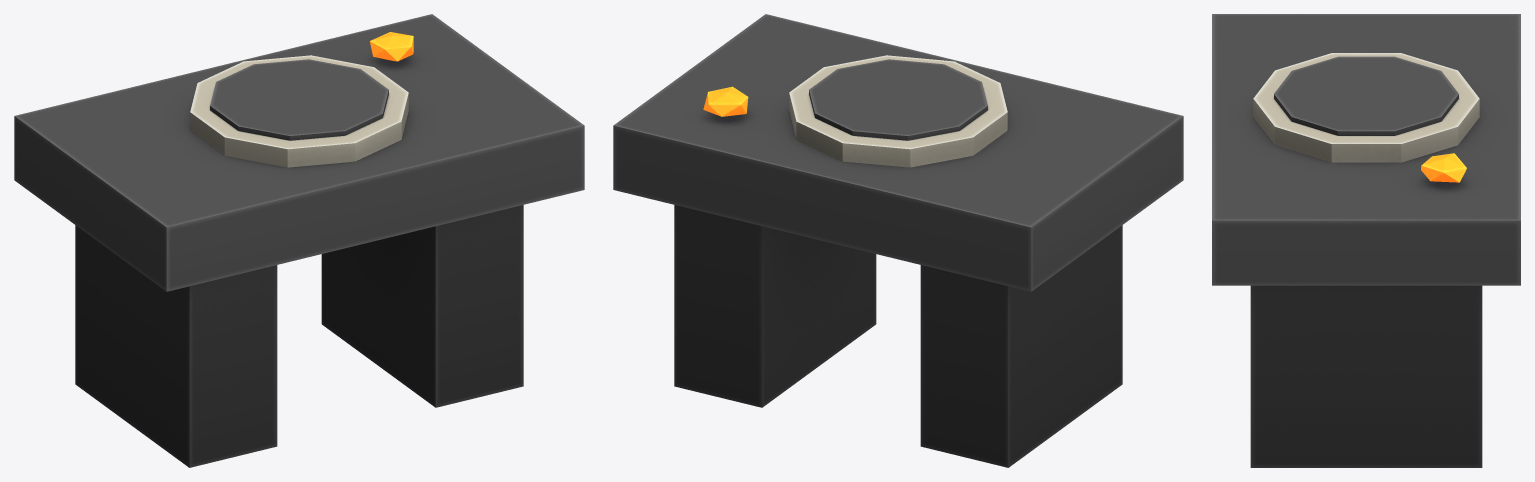
File: rock_altar.glb
The picture shows the model from 3 angles, left to right: view 1: azimuth 30°, elevation 25°; view 2: azimuth 150°, elevation 25°; view 3: azimuth 270°, elevation 25°; orthographic projection.
Visible parts, largest first — view 1: rock_altar; view 2: rock_altar; view 3: rock_altar.
Boxes of the visible parts, <box> form: rock_altar: <box>14,14,584,467</box>; rock_altar: <box>613,14,1183,467</box>; rock_altar: <box>1212,14,1520,467</box>.
Bounding box in the file's own units: 0.95 × 0.6275 × 0.6.
1 material, 1 textured.
